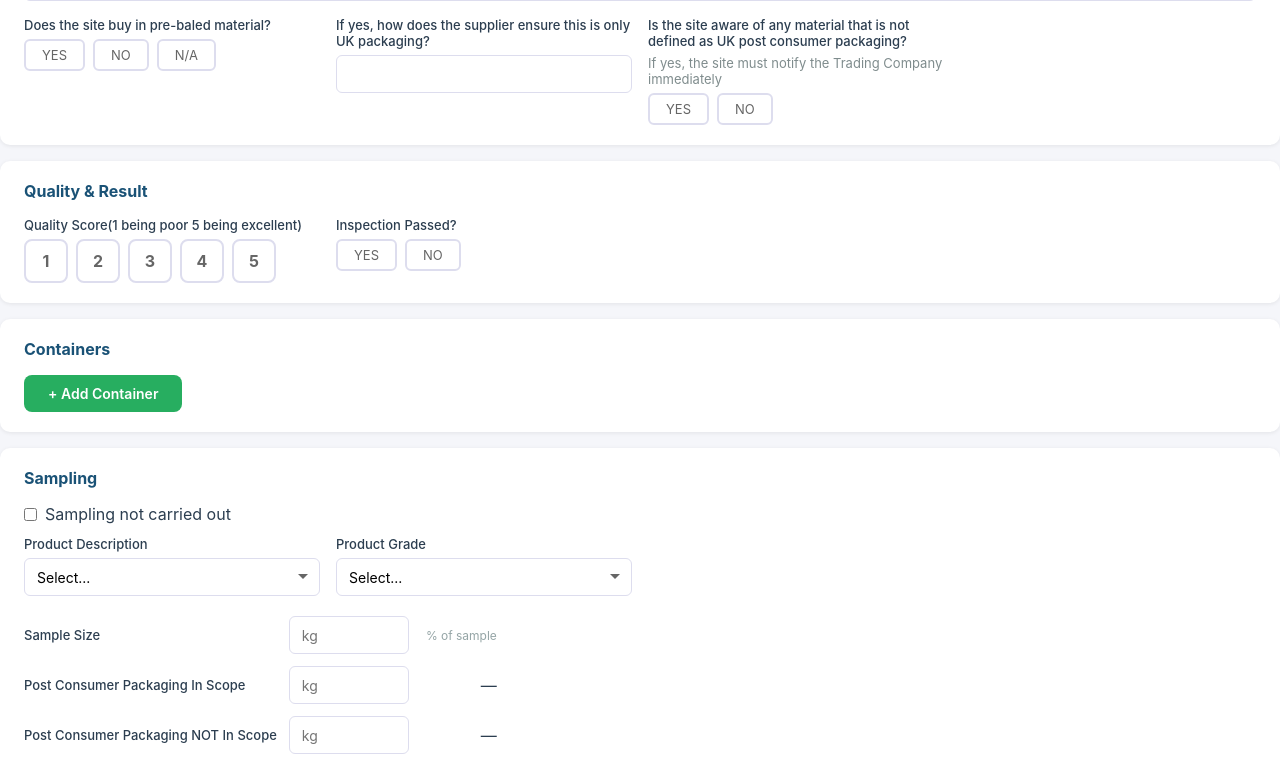
Test case: ReportEdit - New Report › should add a container for loading inspection
The width and height of the screenshot is (1280, 759).
(page scrolled)
Click the button "+ Add Container" at (103, 394), box [24, 375, 182, 412]
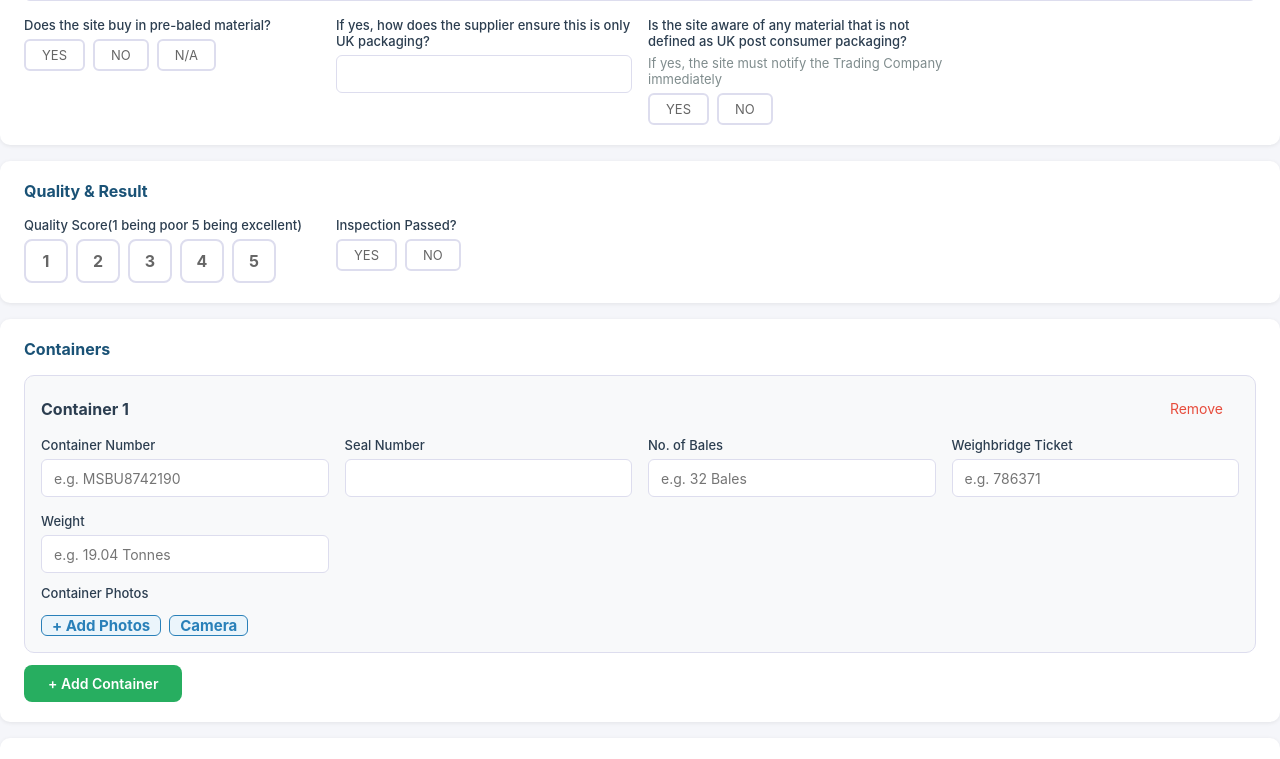
Now the heading "Container 1" is shown, box [41, 398, 129, 418]
